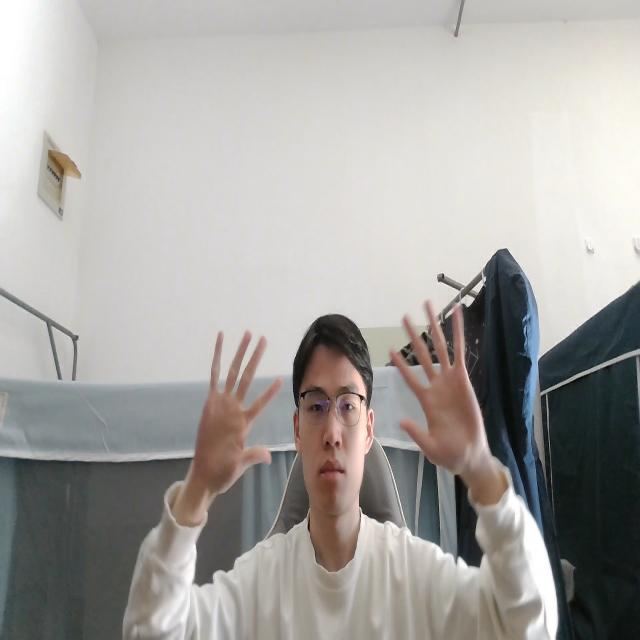five: (386, 296, 491, 480), (187, 324, 283, 502)
